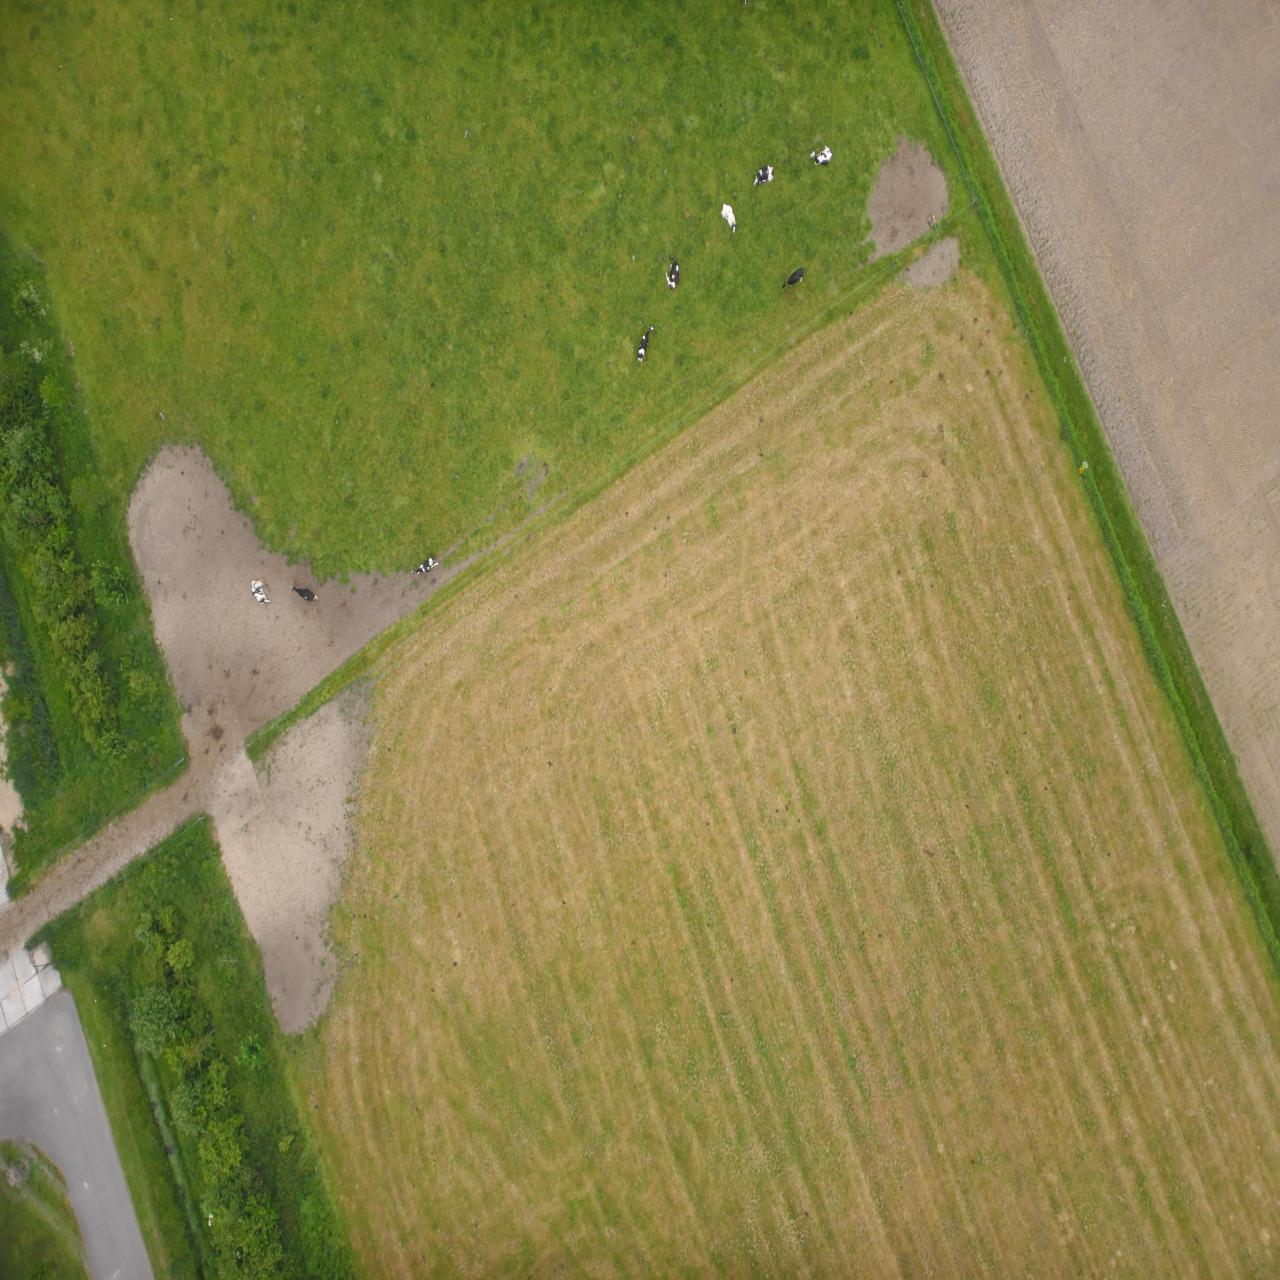cow: (625, 918, 642, 954), (600, 989, 614, 1026), (476, 990, 498, 1012), (840, 706, 869, 722), (1010, 675, 1029, 700), (448, 1115, 470, 1135), (505, 1095, 526, 1115), (545, 1048, 559, 1077), (962, 679, 989, 694)
